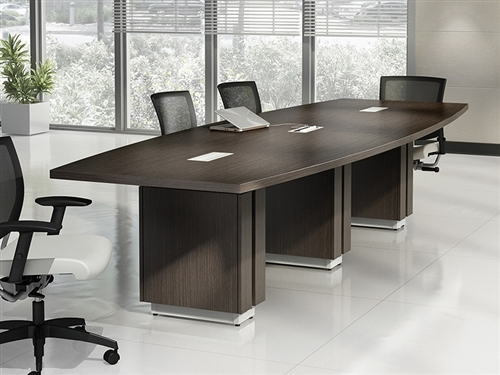conference_table: (49, 99, 469, 327)
